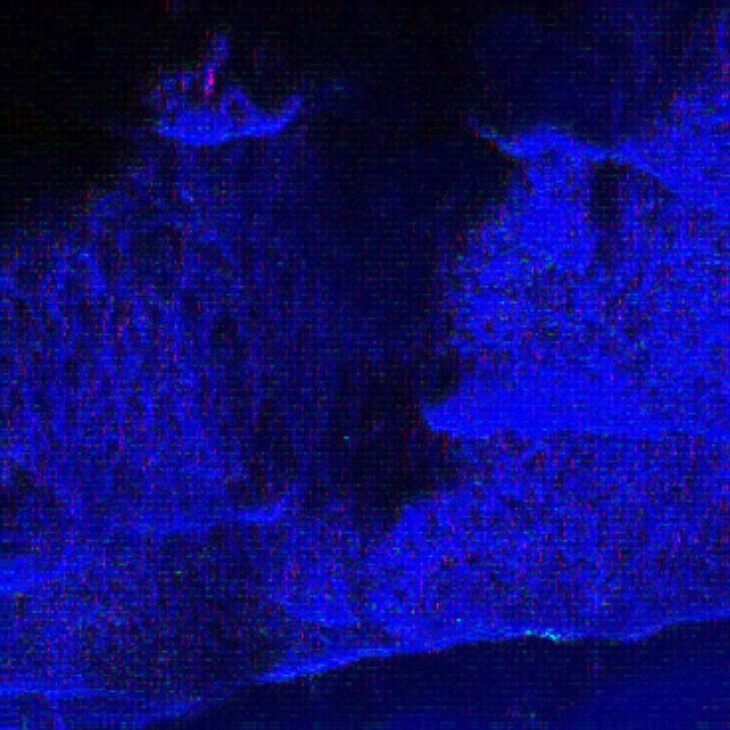rip_current: (148, 43, 513, 625)
